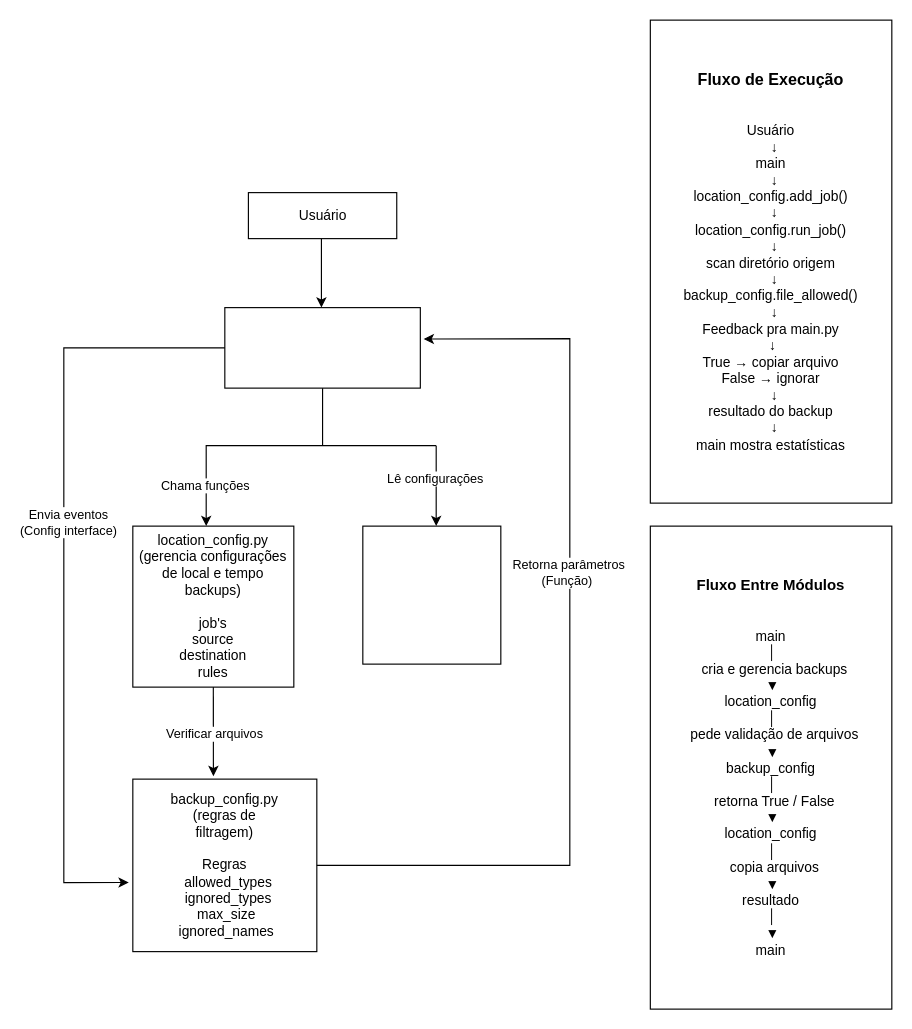
Some shapes in this 912 by 1029 pixel diagram are drawn without their labels. Here are the shapes that lost their labels. From the top down, the centre of each, then its label:
(322,347): Controle App (main.py)
(431,594): app_config.py (gerencia configurações do app)
